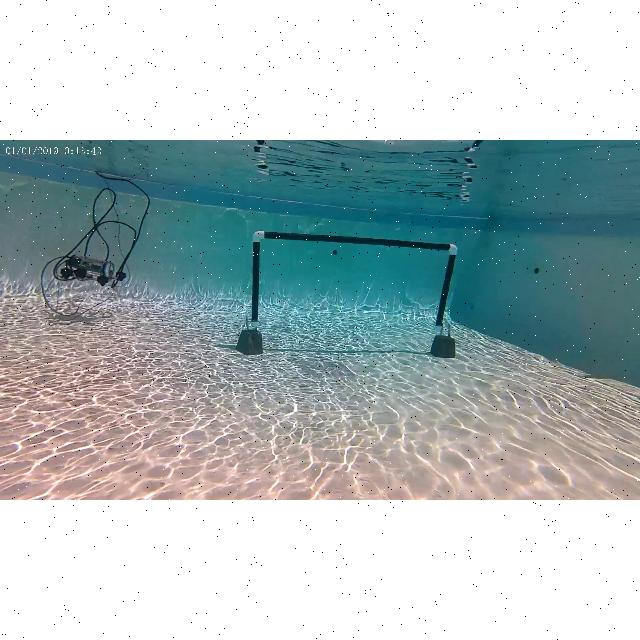prequal gate: (248, 230, 458, 326)
prequal gate leg l: (242, 230, 268, 354)
prequal gate leg r: (435, 247, 459, 355)
